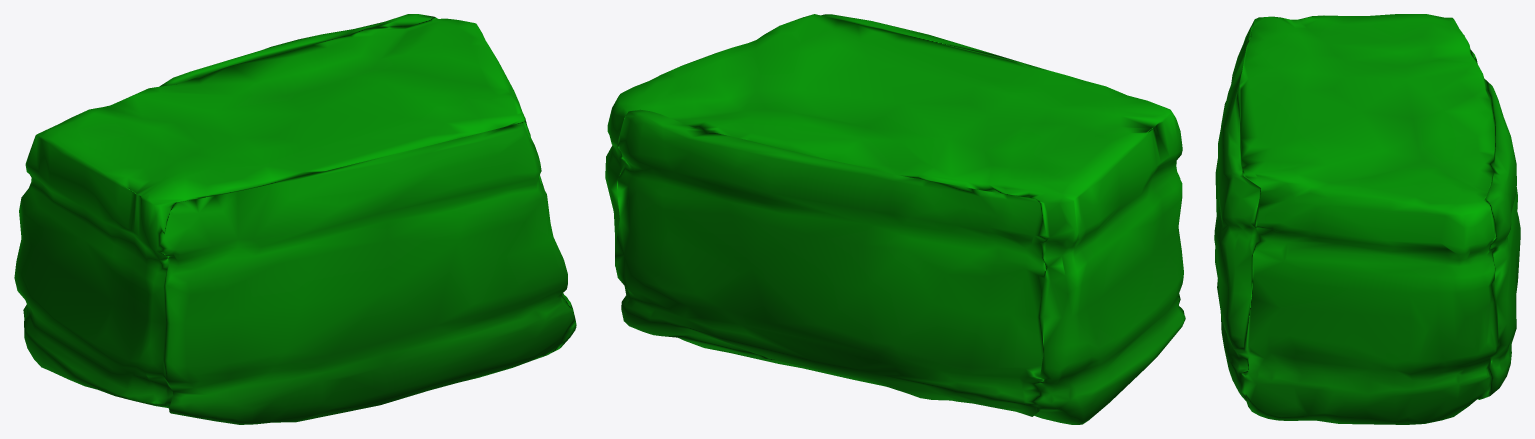
File: outcrop_b.glb
3 views of the same model, side by side, from view 1: azimuth 30°, elevation 25°; view 2: azimuth 150°, elevation 25°; view 3: azimuth 270°, elevation 25° (orthographic). The views are drawn at different scales.
Visible parts, largest first — view 1: LOD0; view 2: LOD0; view 3: LOD0.
Boxes of the visible parts, <box> form: LOD0: <box>14,14,576,424</box>; LOD0: <box>605,14,1185,424</box>; LOD0: <box>1214,14,1520,424</box>.
Size of what is drawn, in the model's own units: 5.4 by 2.73 by 3.29.
